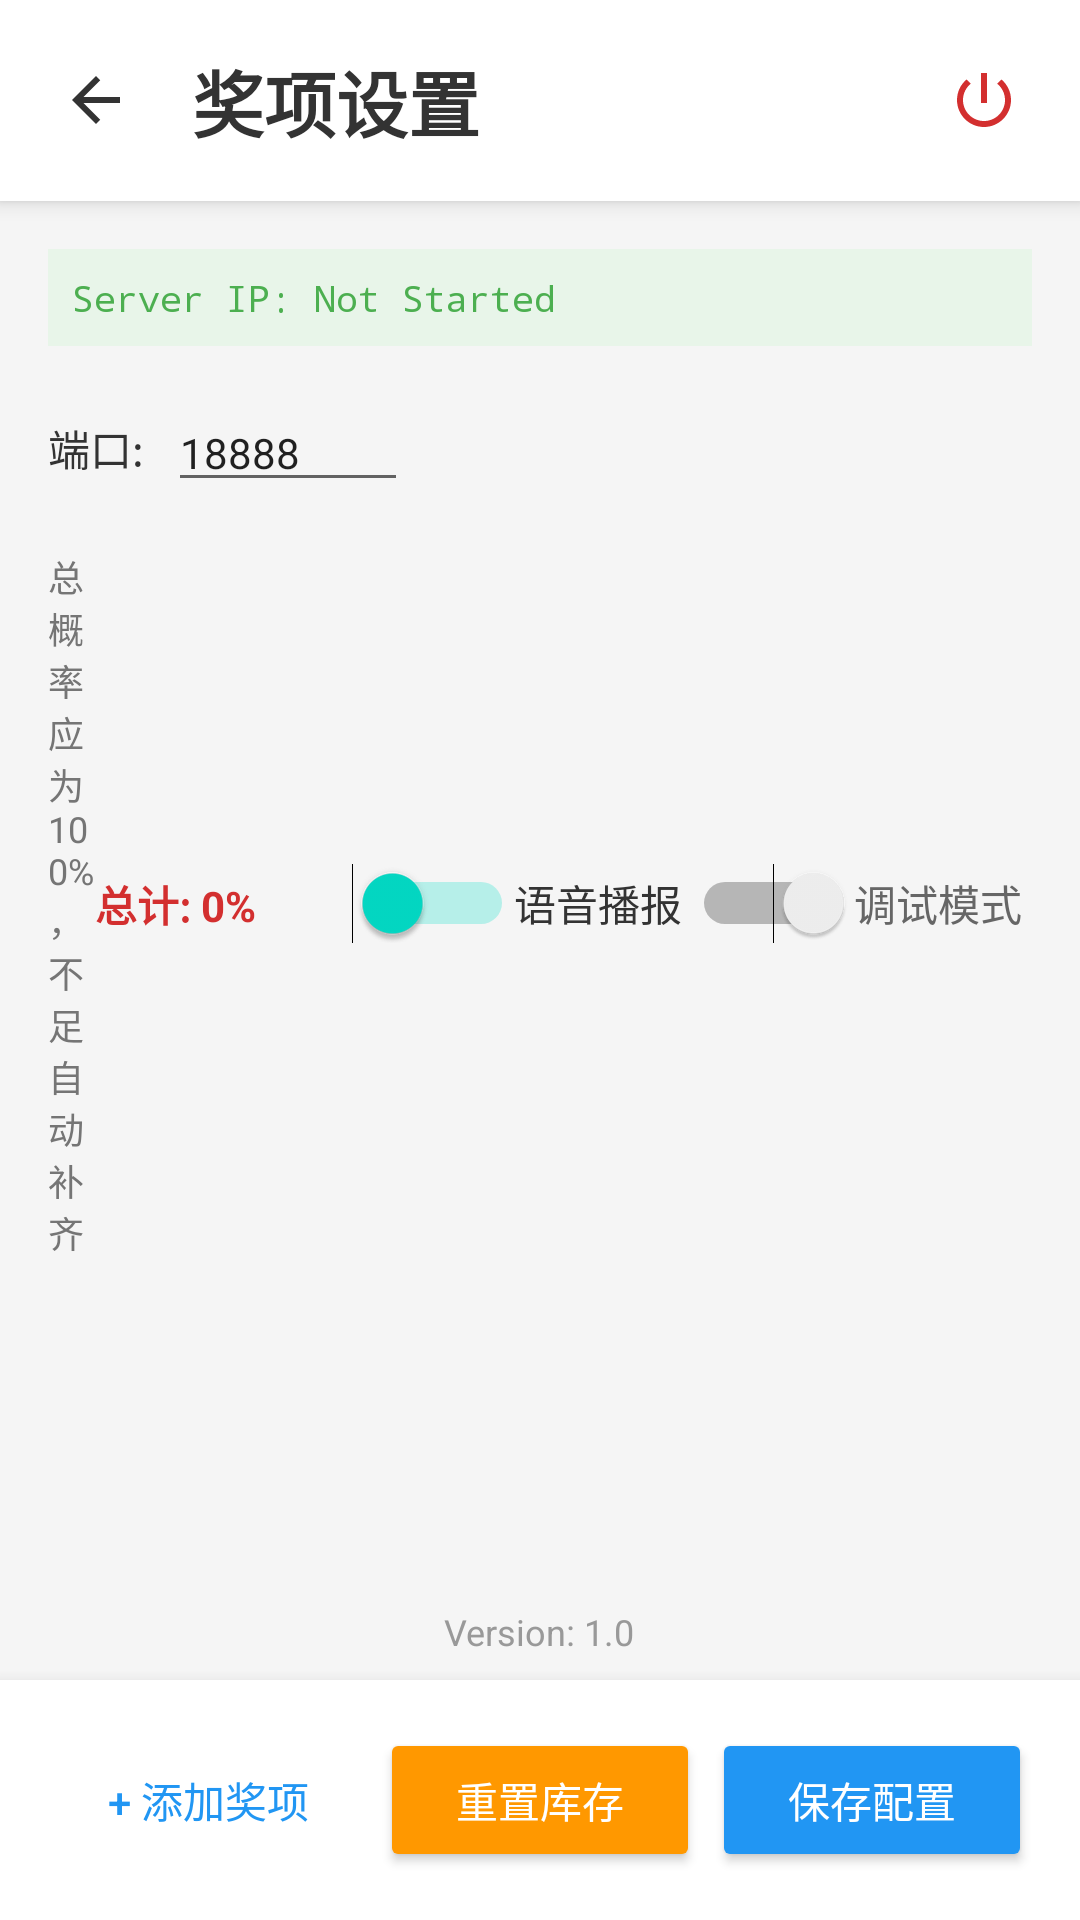

Icon click points for this 1080 × 1920 phone screenshot, format (x,y):
Back: (96,100)
Exit App: (984,100)
